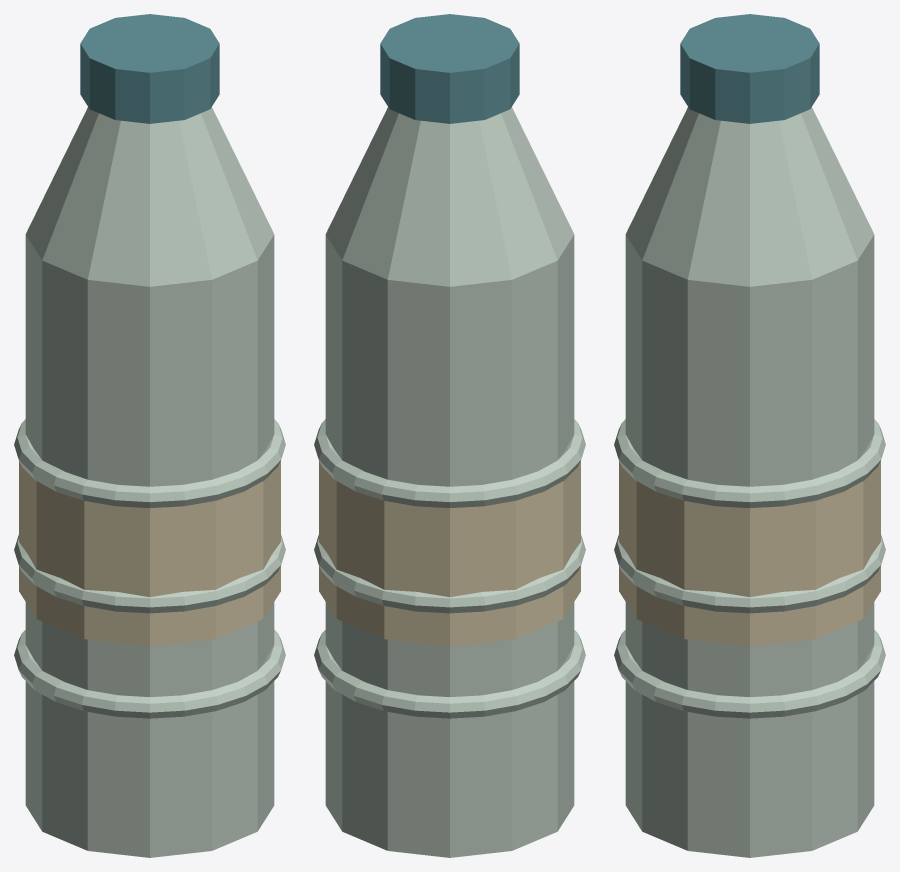
The model's file is Bottle_Plastic.glb.
3 renders of one model, left to right at view 1: azimuth 30°, elevation 25°; view 2: azimuth 150°, elevation 25°; view 3: azimuth 270°, elevation 25°, orthographic.
Parts seen in each view (by area): view 1: Litter; view 2: Litter; view 3: Litter.
Boxes of the visible parts, x1=… form: Litter: x1=14, y1=14, x2=285, y2=857; Litter: x1=314, y1=14, x2=585, y2=857; Litter: x1=614, y1=14, x2=885, y2=857.
Bounding box in the file's own units: 0.164 × 0.507 × 0.164.
